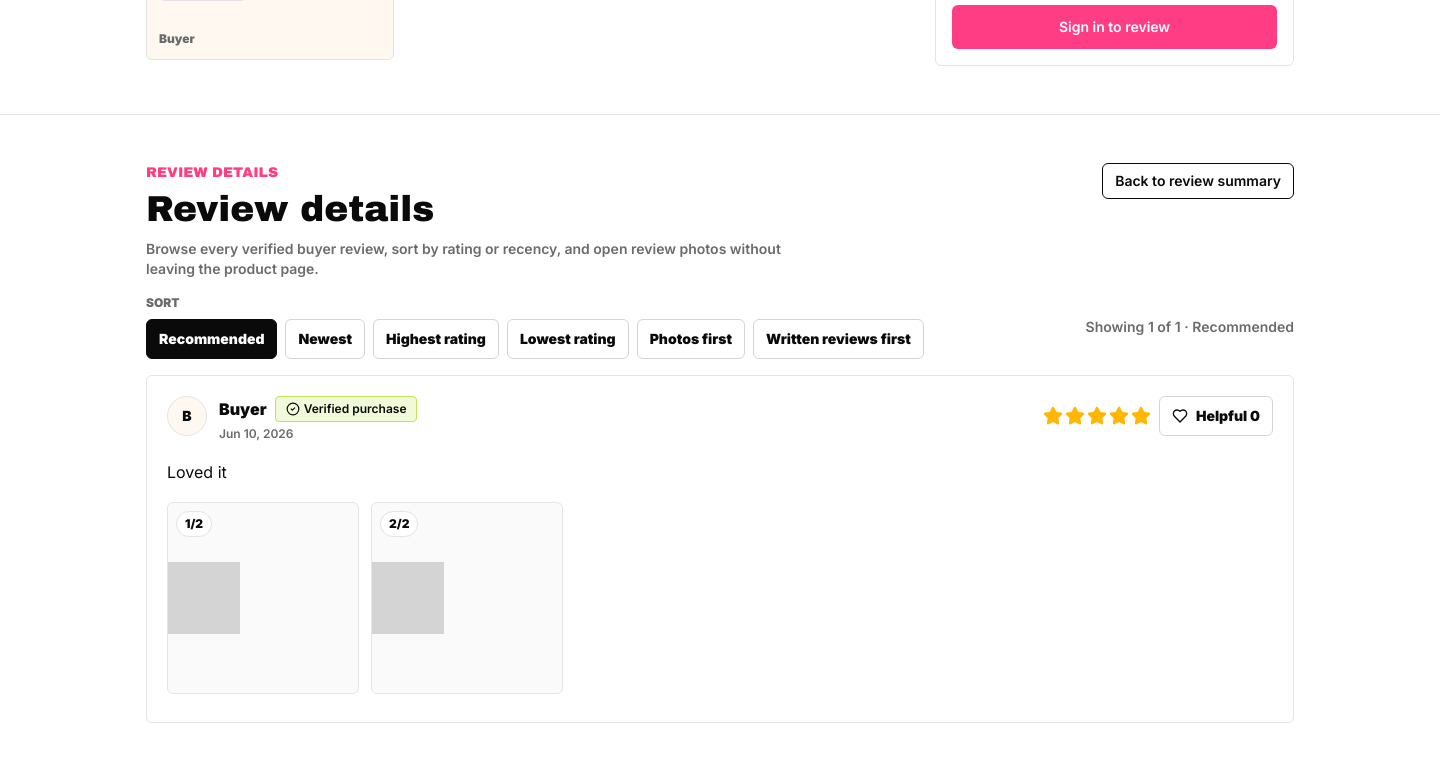
Test: ProductReviewsSection › navigates between review photos inside the photo dialog
(page scrolled)
Click the button named "Open review photo 1 from Buyer": coordinates (263, 598) x1=167 y1=502 x2=359 y2=694
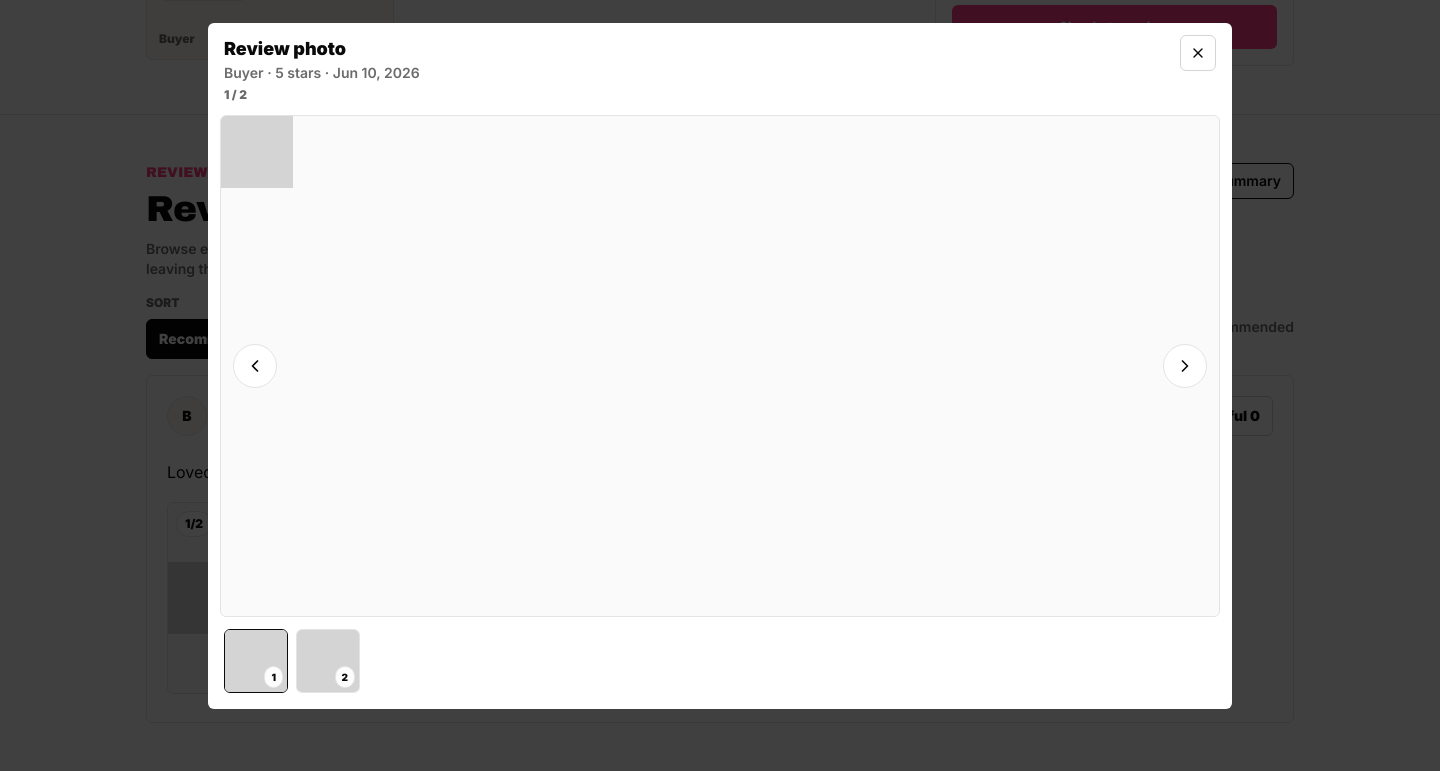
Now the text "1 / 2" is shown, box x1=224 y1=87 x2=247 y2=102
Click the button named "Next review photo": coordinates (1185, 366) x1=1163 y1=344 x2=1207 y2=388
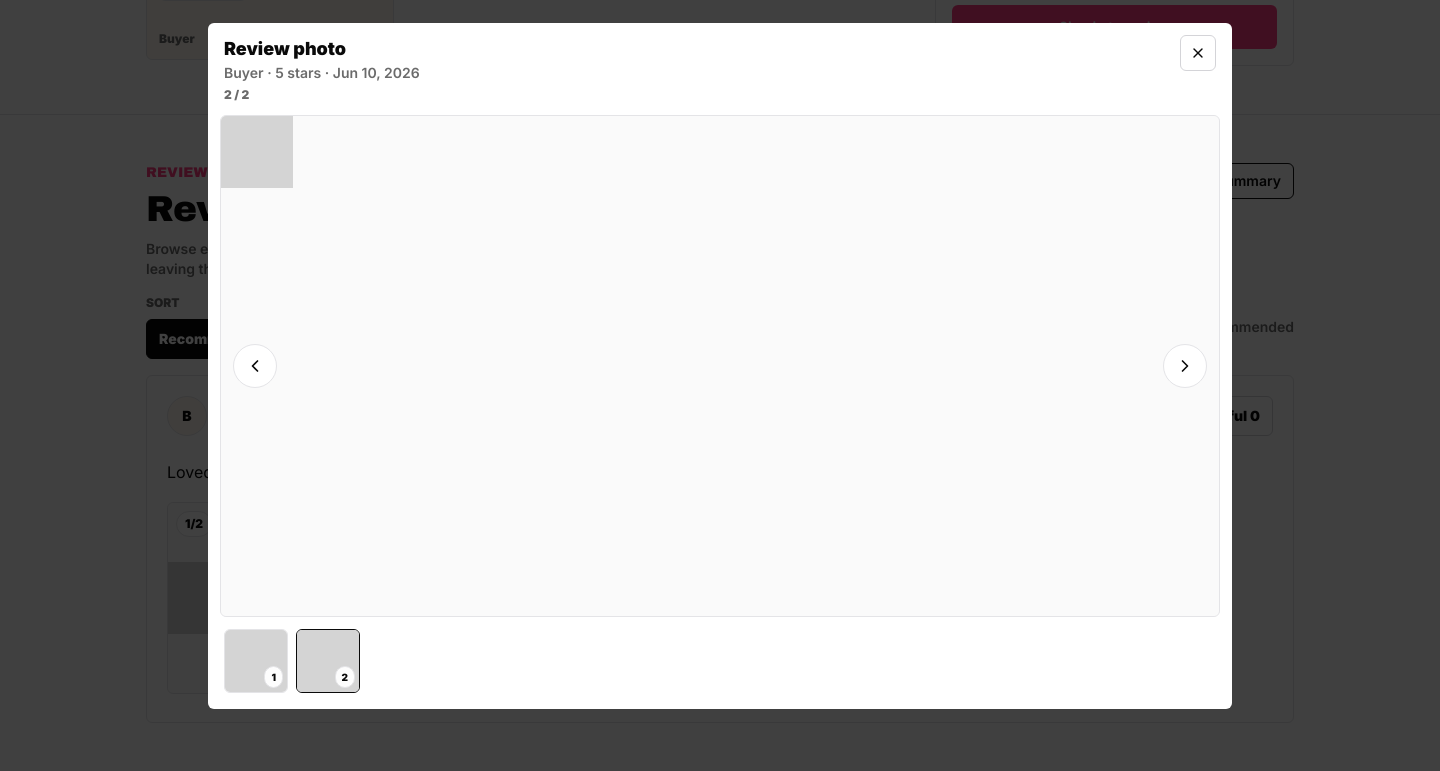
Now the text "2 / 2" is shown, box x1=224 y1=87 x2=249 y2=102
Click the button named "Previous review photo": coordinates (255, 366) x1=233 y1=344 x2=277 y2=388
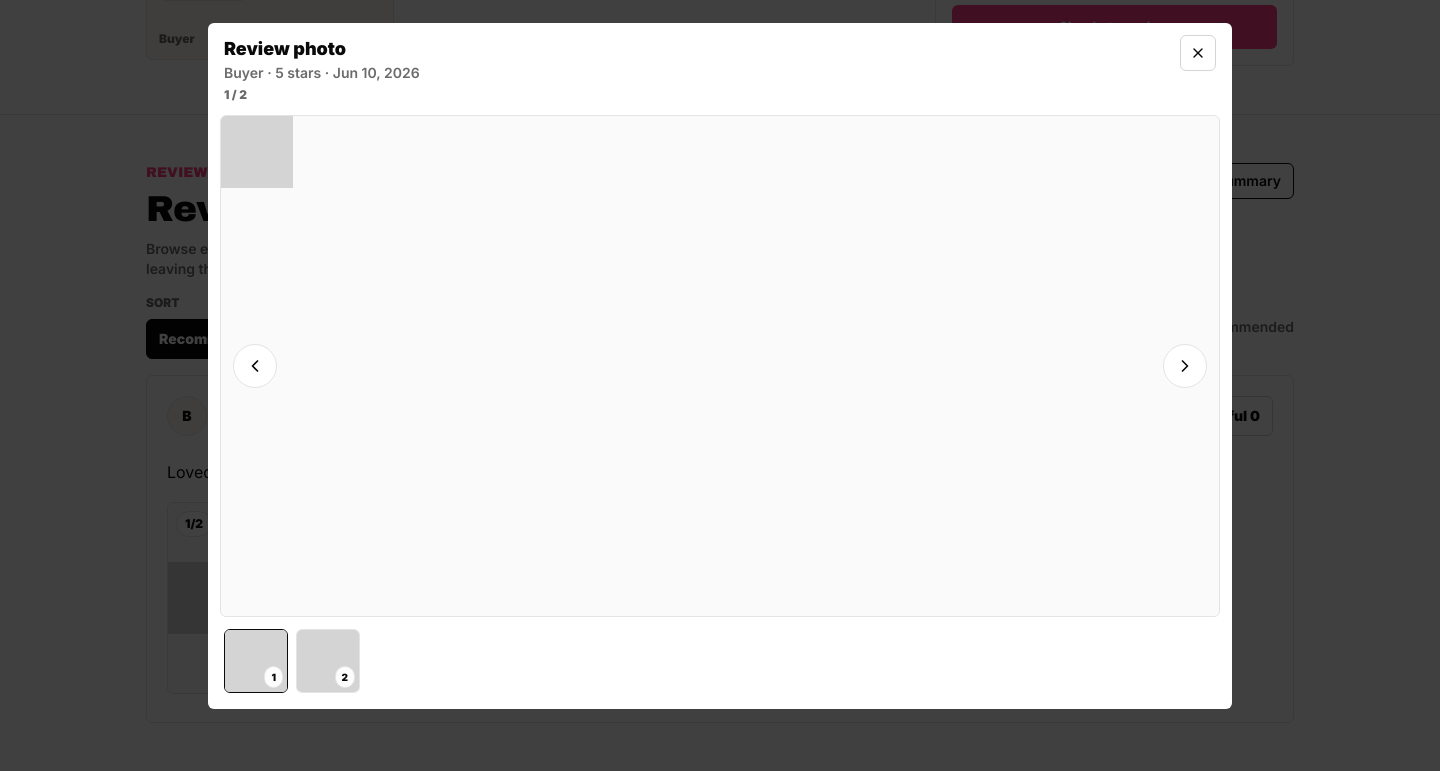
Now the text "1 / 2" is shown, box x1=224 y1=87 x2=247 y2=102
